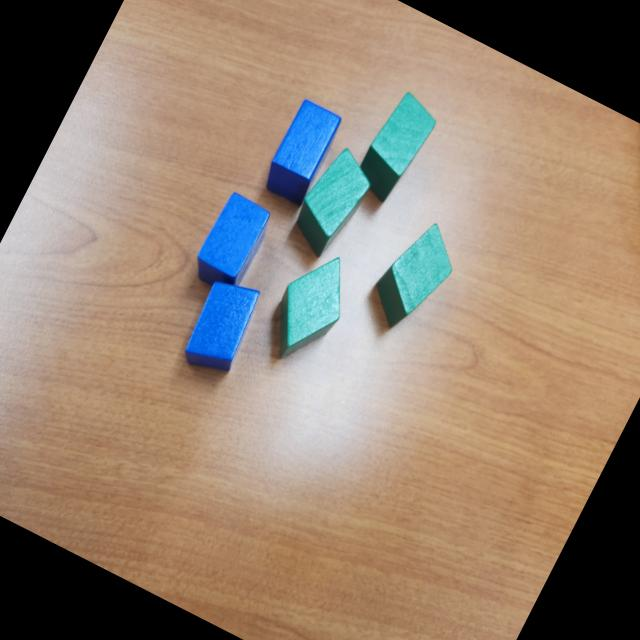blue: (176, 272, 268, 382), (187, 189, 278, 299), (258, 98, 346, 208)
green: (253, 238, 369, 376), (360, 209, 469, 342), (346, 82, 448, 212), (282, 137, 384, 266)
